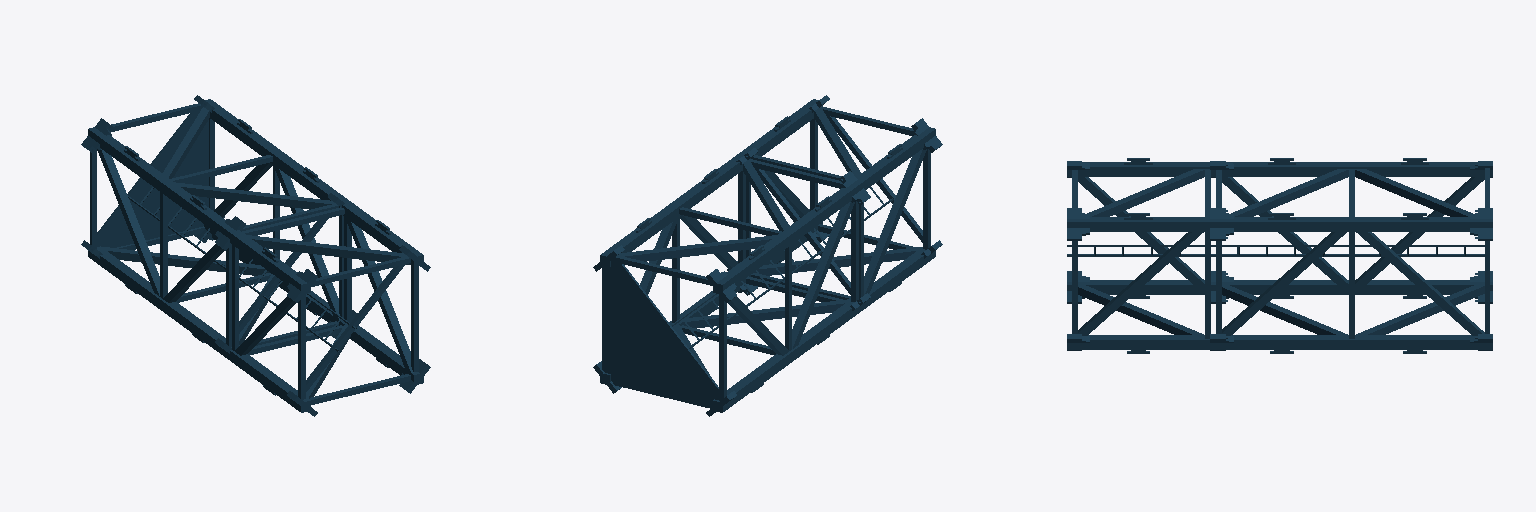
The model's file is gangjia.obj.
The picture shows the model from 3 angles: view 1: azimuth 30°, elevation 25°; view 2: azimuth 150°, elevation 25°; view 3: azimuth 270°, elevation 25°; orthographic projection.
Parts seen in each view (by area): view 1: gangjia:Obj3d66FBXASC[number redacted]FBXASC045286FBXASC045281 gangjia:g; view 2: gangjia:Obj3d66FBXASC[number redacted]FBXASC045286FBXASC045281 gangjia:g; view 3: gangjia:Obj3d66FBXASC[number redacted]FBXASC045286FBXASC045281 gangjia:g.
Boxes of the visible parts, <box> form: gangjia:Obj3d66FBXASC[number redacted]FBXASC045286FBXASC045281 gangjia:g: <box>81,95,430,416</box>; gangjia:Obj3d66FBXASC[number redacted]FBXASC045286FBXASC045281 gangjia:g: <box>593,95,942,416</box>; gangjia:Obj3d66FBXASC[number redacted]FBXASC045286FBXASC045281 gangjia:g: <box>1067,158,1492,353</box>.
Size of the model in its own units: 18.98 by 18.98 by 51.23.